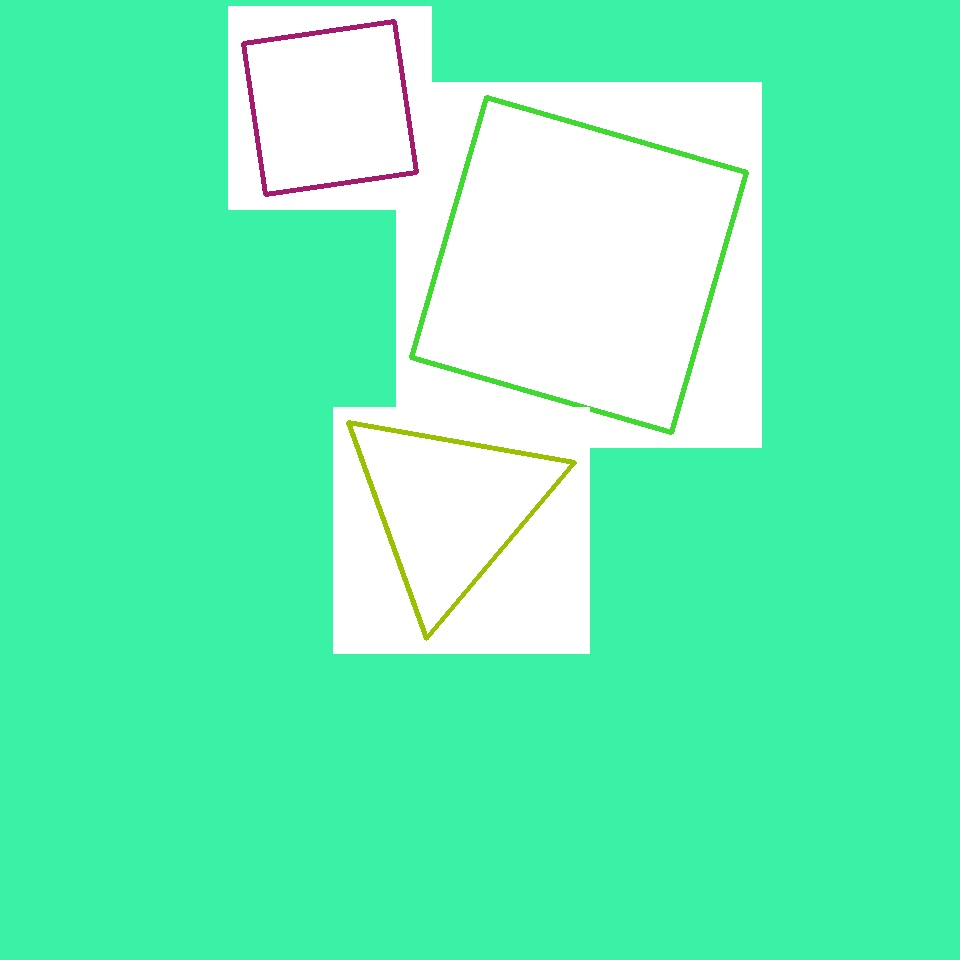circle: (206, 86, 508, 407), (70, 297, 372, 567), (337, 400, 563, 616), (736, 336, 914, 538)
square: (412, 98, 746, 433), (244, 22, 416, 194), (516, 445, 610, 538)
